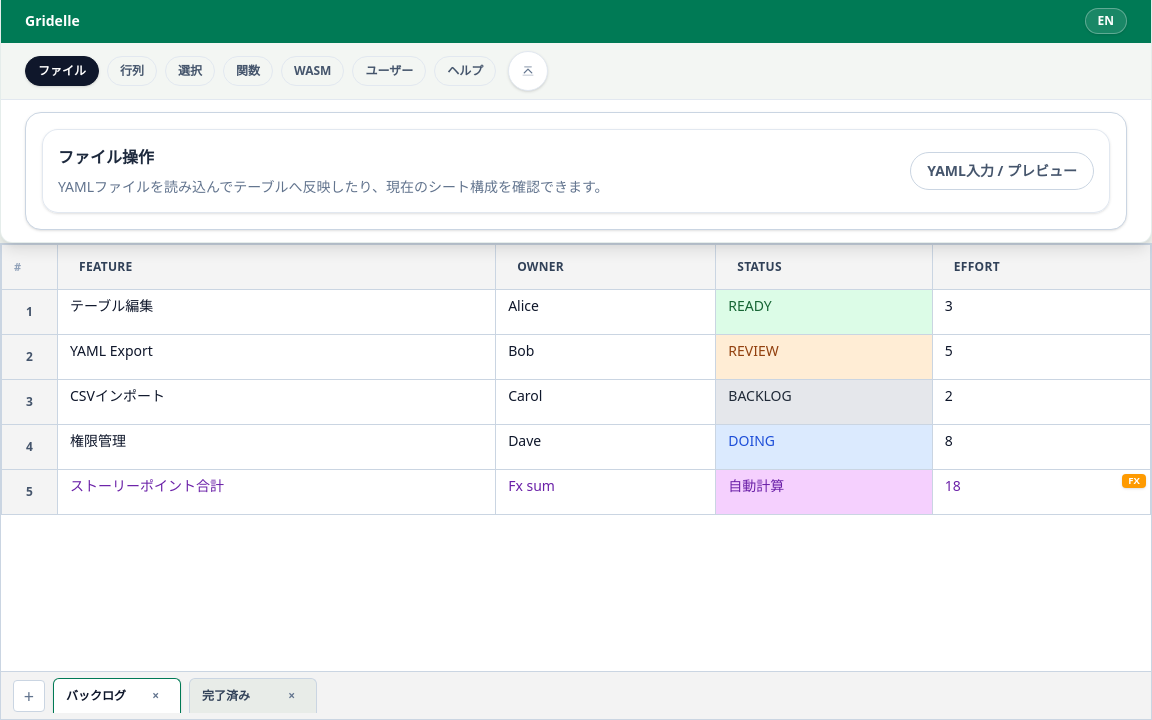
Test: App › 列の並べ替えができる
Expected: the elements with test id "column-title" read "feature", "owner", "status", "effort", in this order, [79,259,132,275]; [517,259,564,275]; [737,259,782,275]; [954,259,1000,275]
Step 1. Click the button with test id "menu-tab-structure" → click(132, 71), box [107,56,157,86]
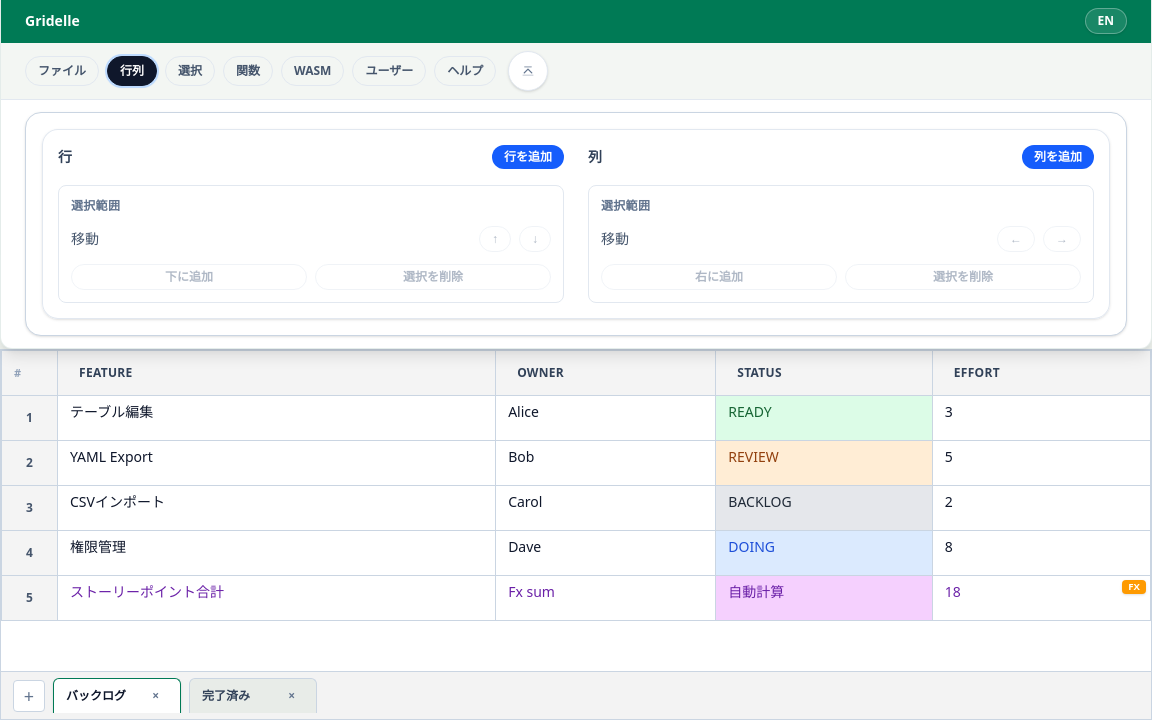
Step 2. Click the button with test id "column-select-1" → click(606, 373), box [508,357,703,389]
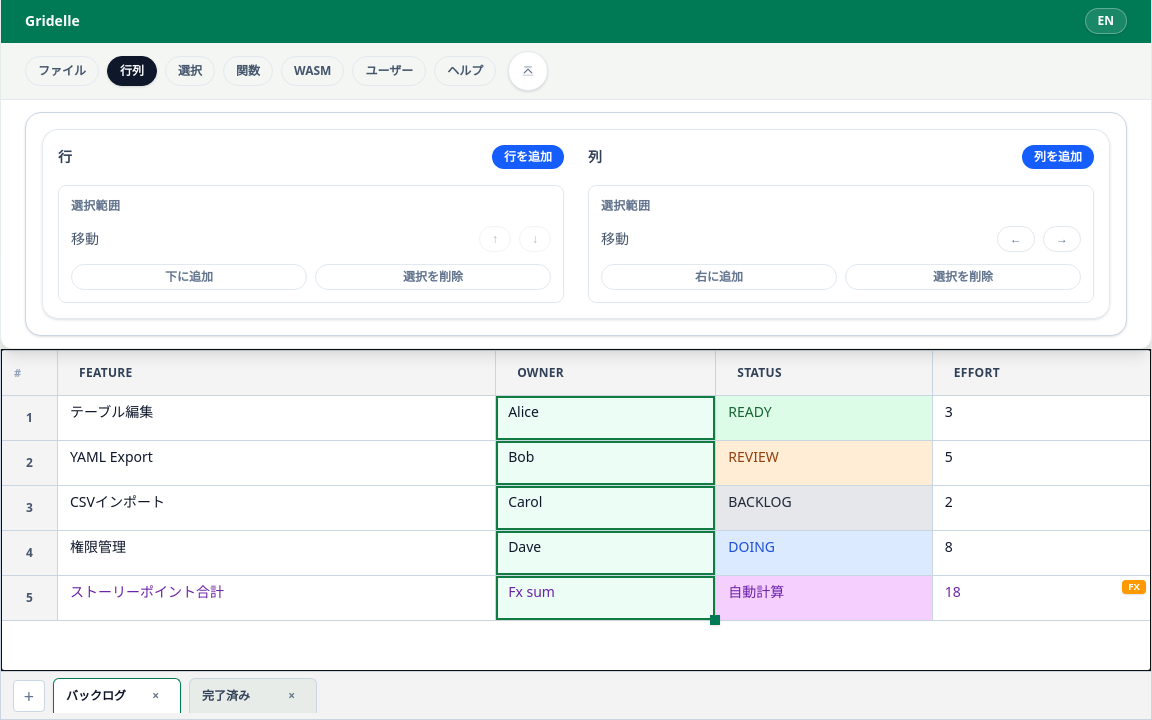
Step 3. Click the button with test id "move-selected-columns-left" → click(1016, 239), box [997,226,1035,252]
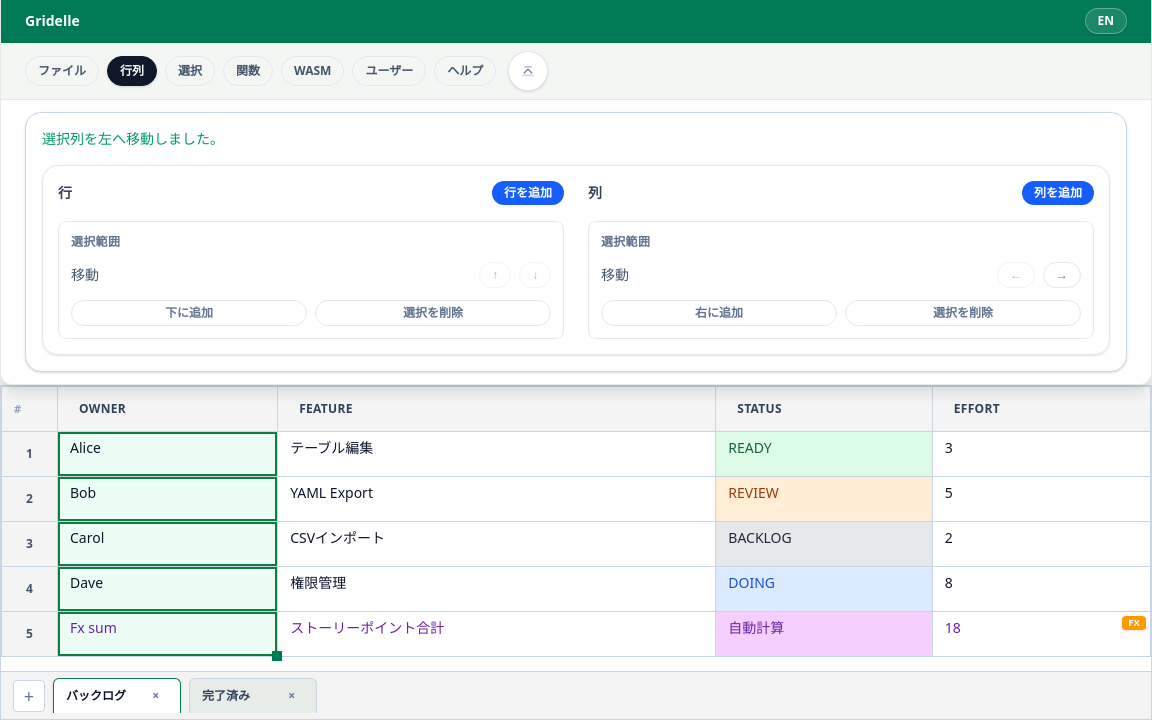
Result: the elements with test id "column-title" read "owner", "feature", "status", "effort", in this order at [79,401,126,417]; [299,401,353,417]; [737,401,782,417]; [954,401,1000,417]
